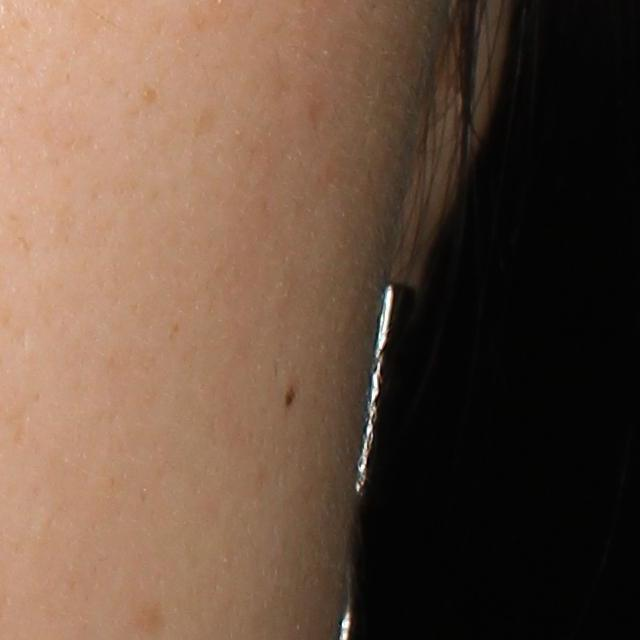nevus: (281, 383, 297, 411)
